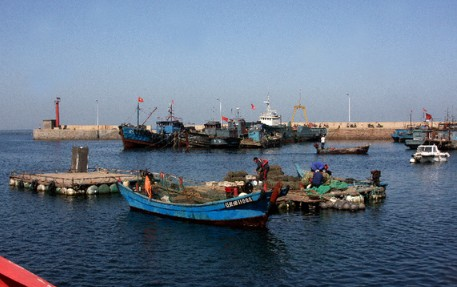otherboat: (118, 167, 283, 223), (118, 107, 185, 152), (174, 116, 243, 148), (406, 143, 451, 164)
